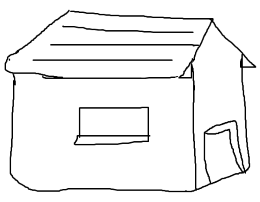big_house: (0, 0, 259, 200)
door: (202, 117, 250, 189)
open_window: (71, 97, 159, 153)
roof: (3, 5, 260, 90)
wall: (3, 57, 201, 197)
